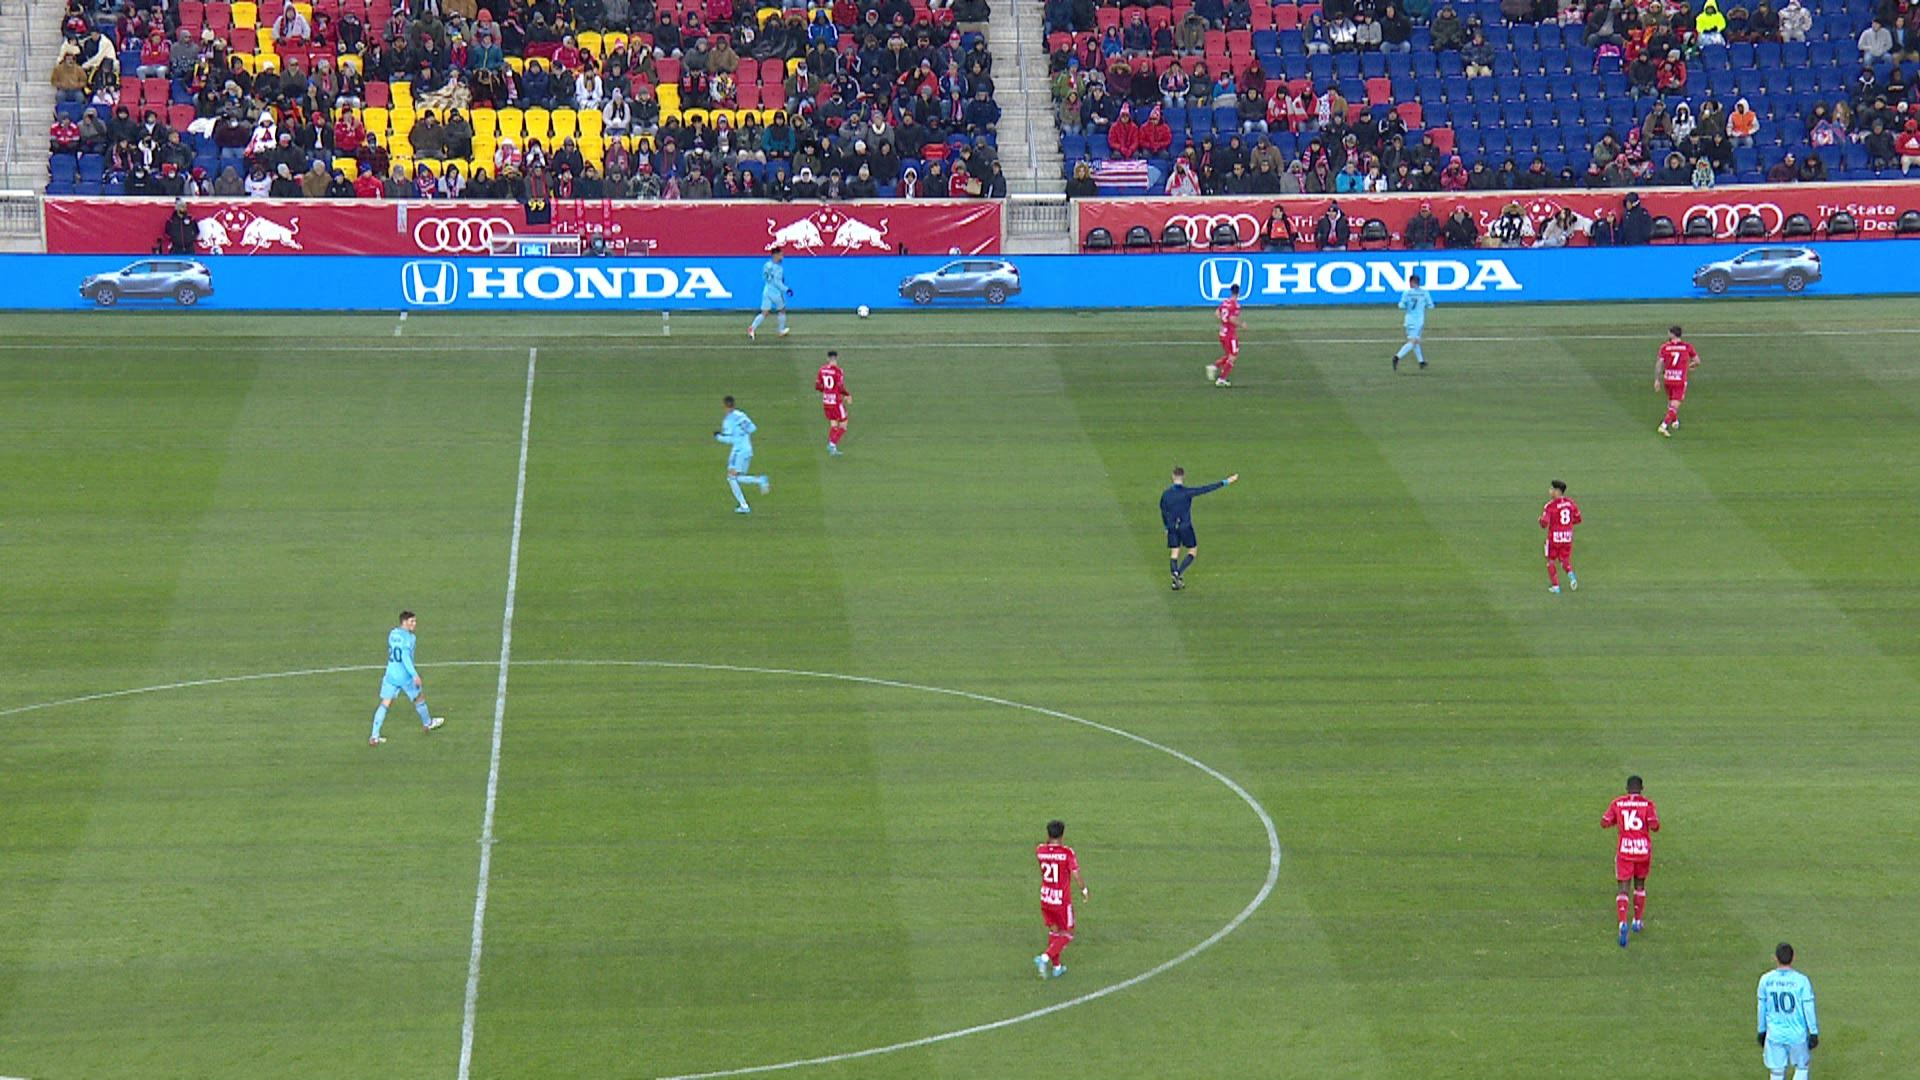football: (857, 305, 870, 319)
